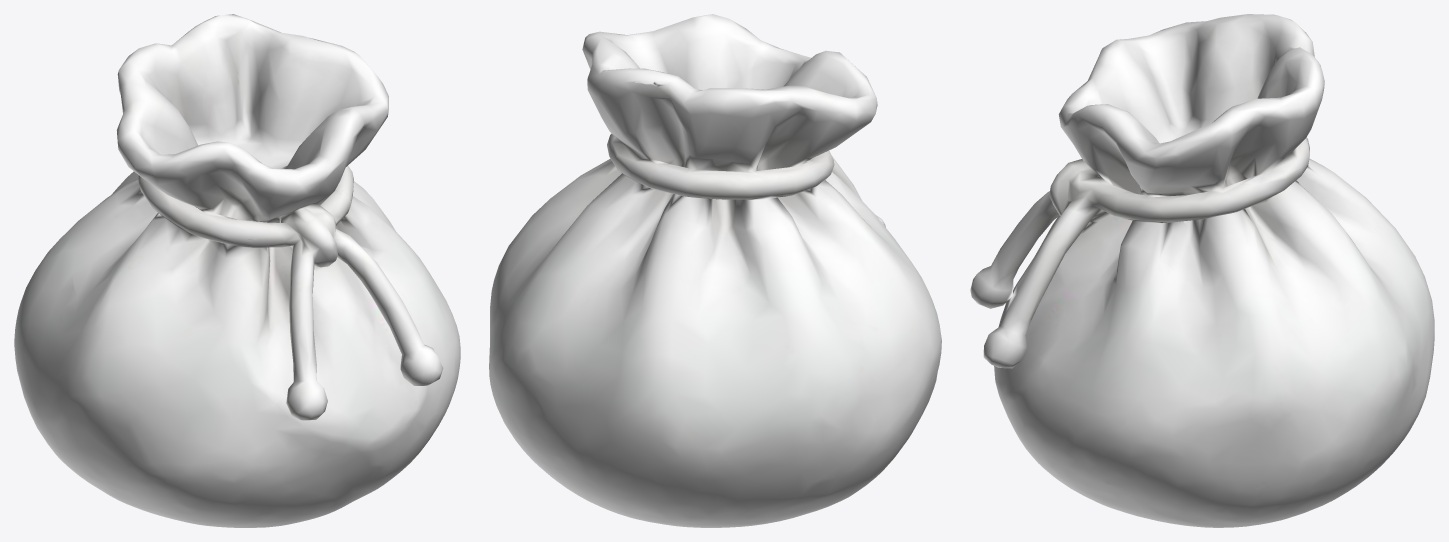
The model's file is pouch.glb.
3 views of the same model, side by side, from view 1: azimuth 30°, elevation 25°; view 2: azimuth 150°, elevation 25°; view 3: azimuth 270°, elevation 25° (orthographic). The views are drawn at different scales.
Parts seen in each view (by area): view 1: tripo_node_86741506-a603-47af-831b-33ff6fb4dbdd; view 2: tripo_node_86741506-a603-47af-831b-33ff6fb4dbdd; view 3: tripo_node_86741506-a603-47af-831b-33ff6fb4dbdd.
Part boxes in pixels (box(x1,y1,x2,y2)): tripo_node_86741506-a603-47af-831b-33ff6fb4dbdd: box(14, 14, 460, 527); tripo_node_86741506-a603-47af-831b-33ff6fb4dbdd: box(489, 14, 941, 527); tripo_node_86741506-a603-47af-831b-33ff6fb4dbdd: box(970, 14, 1434, 527).
Bounding box in the file's own units: 0.9326 × 0.9805 × 0.9652.
Materials: 1 (1 with a texture image).
